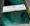cylinder: (1, 1, 30, 26)
